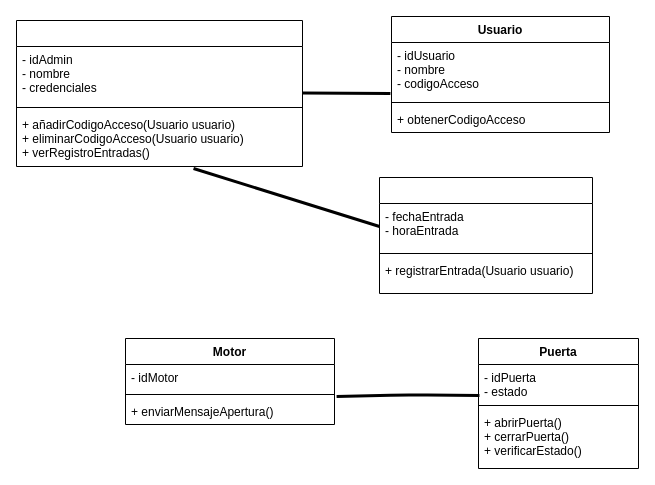
This 655x485 diagram has some shape labels left out. Each missing label, with the box of its shape:
Administrador: (16, 20, 302, 166)
RegistroEntradas: (378, 176, 592, 294)
